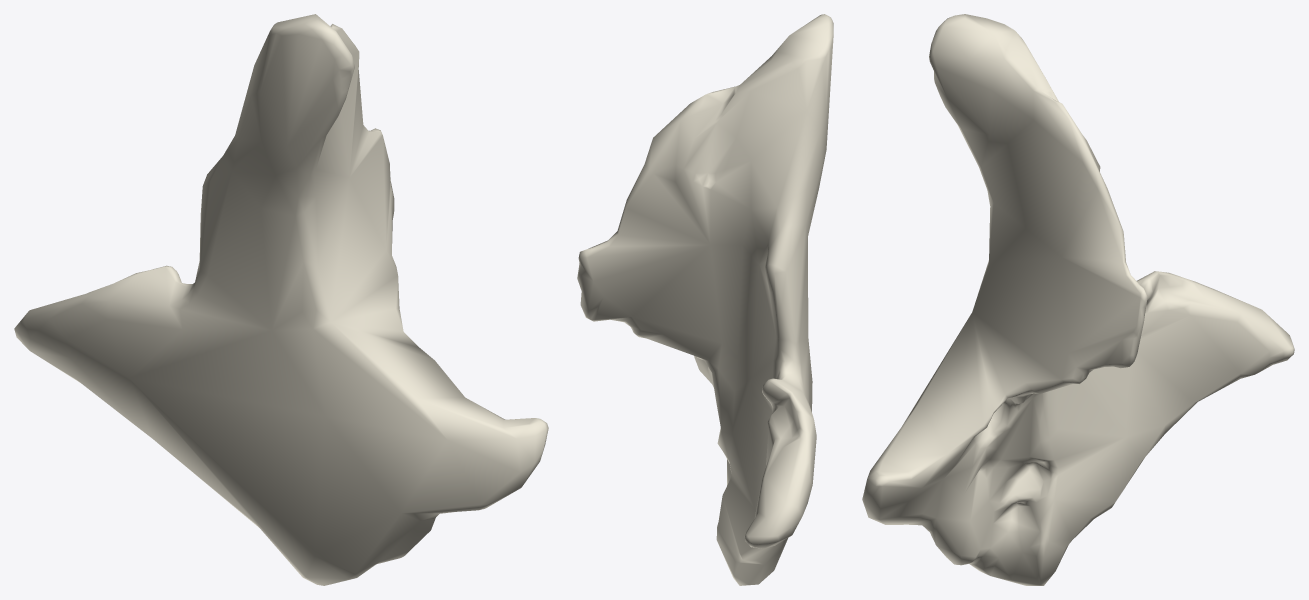
The picture shows the model from 3 angles, left to right: view 1: azimuth 30°, elevation 25°; view 2: azimuth 150°, elevation 25°; view 3: azimuth 270°, elevation 25°; orthographic projection. The views are drawn at different scales.
Parts seen in each view (by area): view 1: ZA_b4f3d68e8b78bdf4; view 2: ZA_b4f3d68e8b78bdf4; view 3: ZA_b4f3d68e8b78bdf4.
Boxes of the visible parts, x1,y1,x2,y2 form: ZA_b4f3d68e8b78bdf4: (14,14,548,585); ZA_b4f3d68e8b78bdf4: (577,14,833,585); ZA_b4f3d68e8b78bdf4: (862,14,1294,585).
Size of the model in its own units: 0.0307 by 0.0547 by 0.039.
